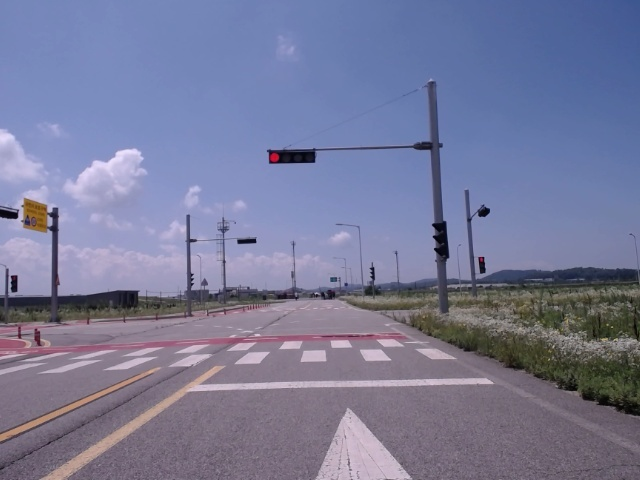red_4: (269, 150, 315, 163)
